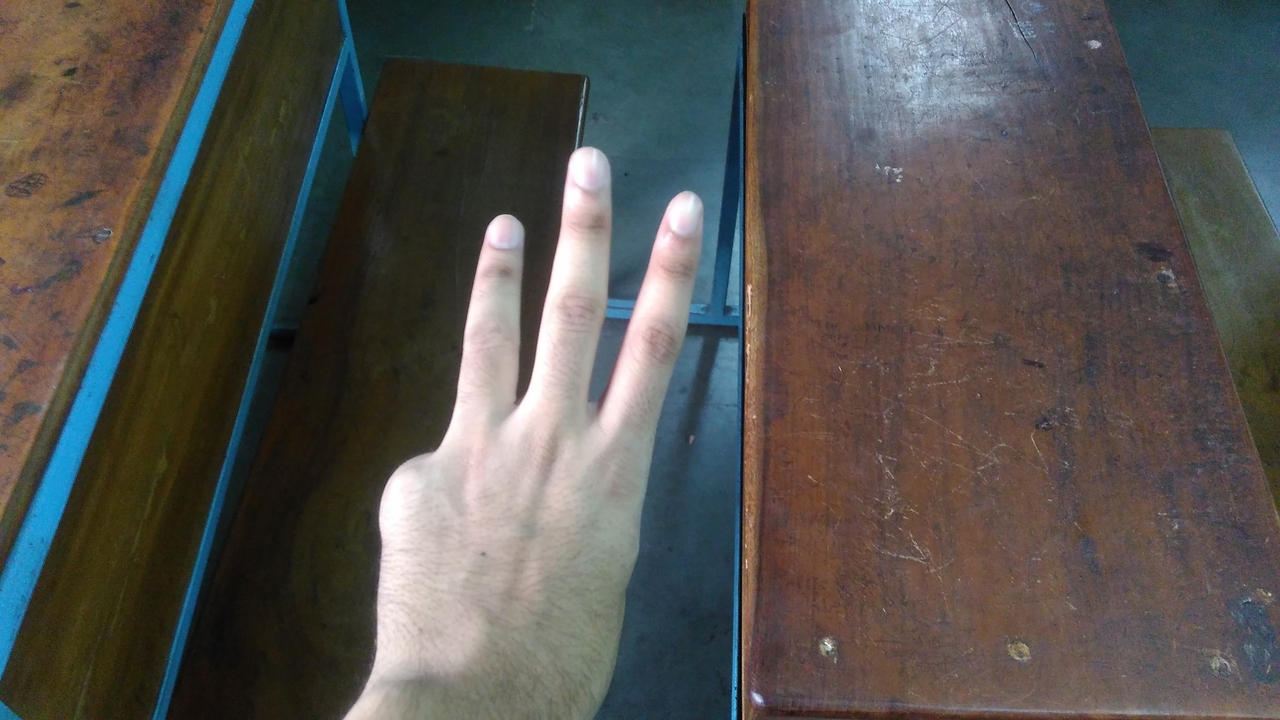fingertip: (650, 182, 710, 246), (560, 142, 618, 202), (472, 204, 528, 262)
